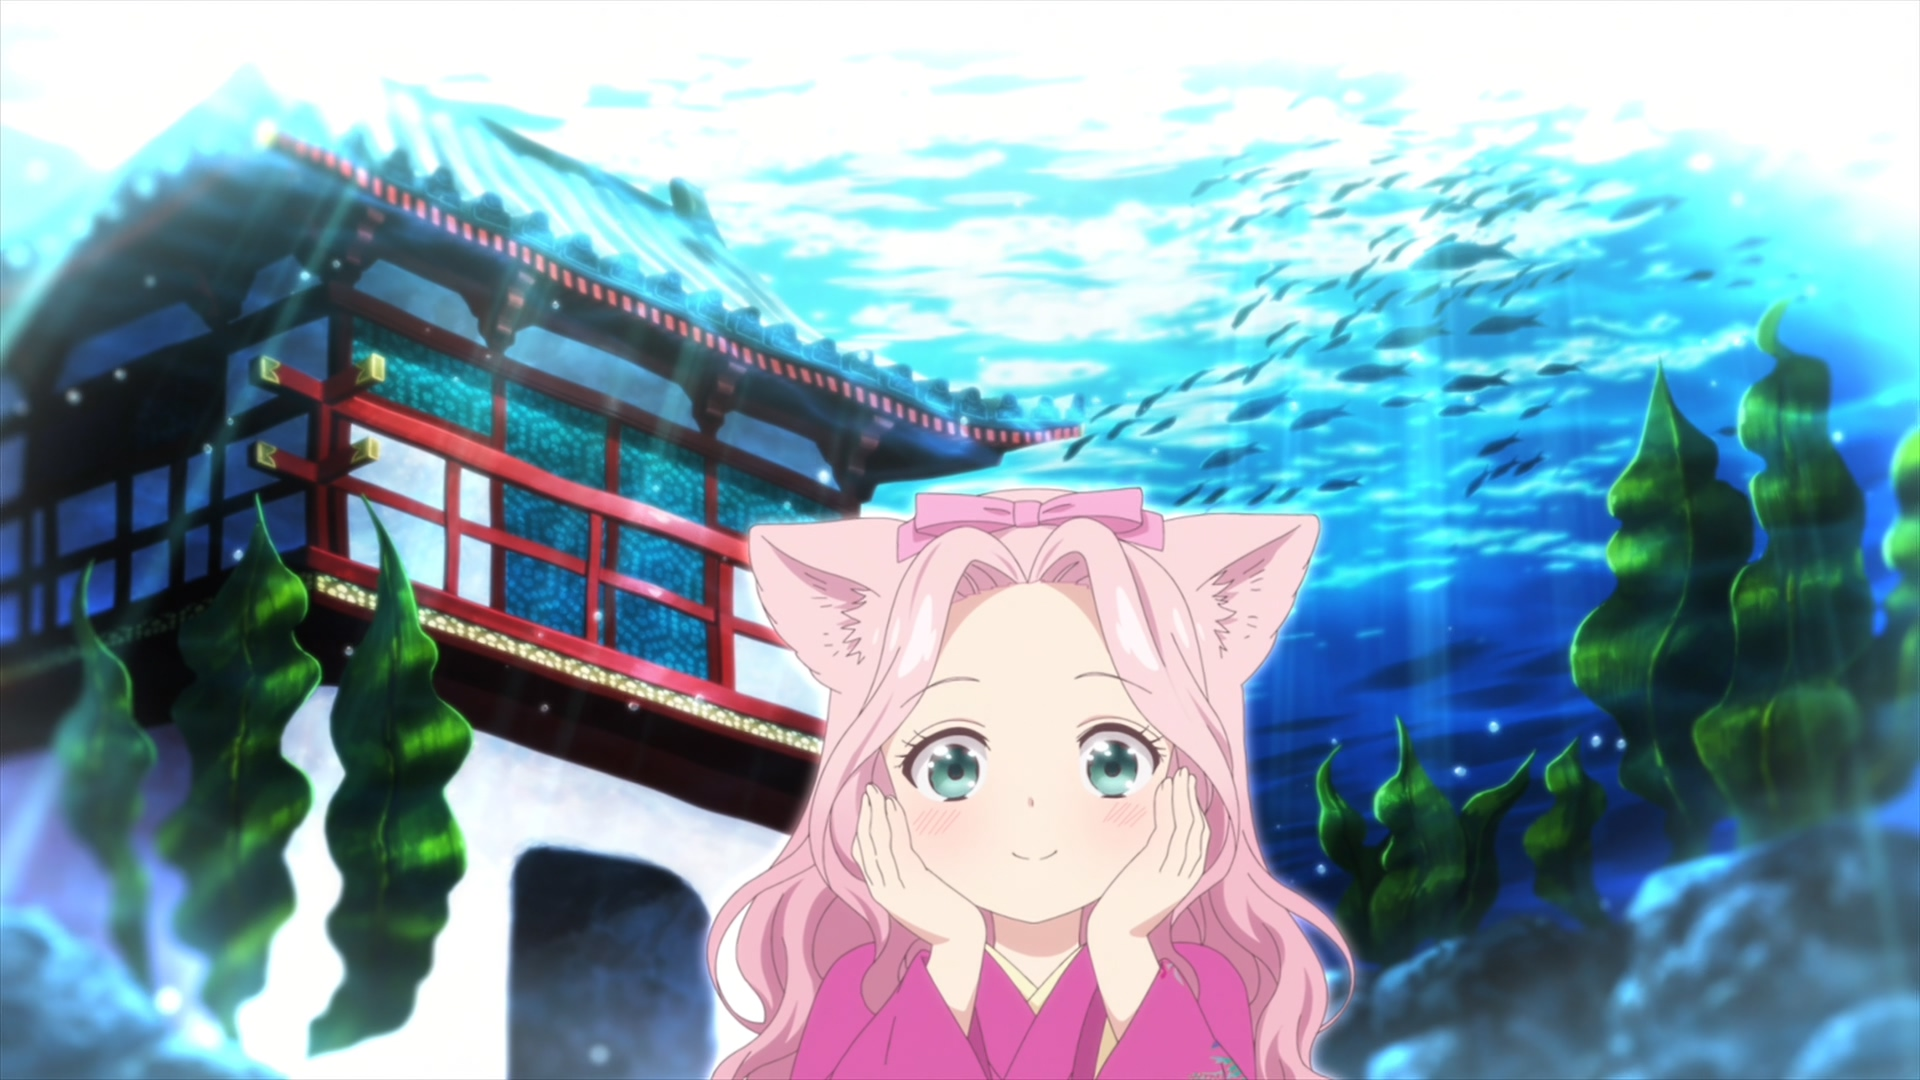莲: (705, 487, 1356, 1080)
